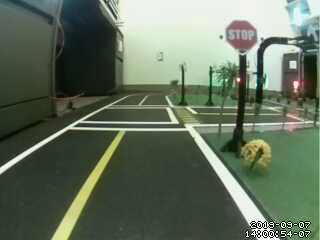Stop_Sign: (222, 15, 261, 56)
